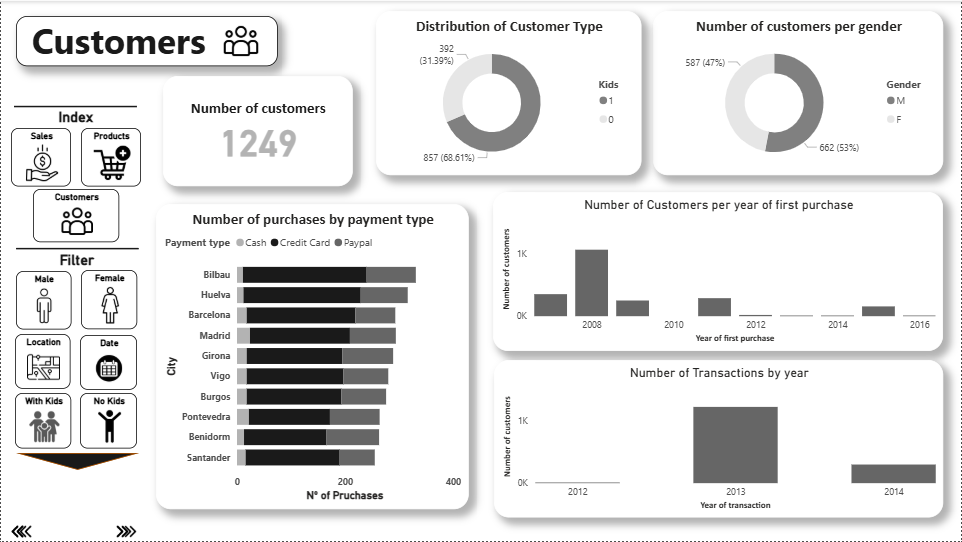

What the dashboard file says about the page in this screenshot:
{"tool":"powerbi","page":{"name":"Customers","canvas":[1280,720],"ordinal":2},"visuals":[{"type":"image","box":[140.5,688.9,43.2,31.1],"z":7000},{"type":"image","box":[0,688.9,44.2,31.1],"z":8000},{"type":"textbox","title":"Customers","box":[20.2,20.2,348.6,67.4],"z":10000},{"type":"image","box":[284.6,25.3,72.4,55.6],"z":11000},{"type":"cardVisual","fields":{"Data":["Count(temp1671068008898978552.cust_id)"]},"box":[215.6,99.4,252.6,146.5],"z":12000},{"type":"barChart","title":"Number of purchases by payment type","fields":{"Category":["temp1671068008898978552.city"],"Y":["Count(temp1671068008898978552.transaction_id)"],"Series":["temp1671068008898978552.Payment_type"]},"box":[207.1,270,417.1,407.1],"z":13000},{"type":"columnChart","title":"Number of Customers per year of first purchase","fields":{"Y":["Count(temp1671068008898978552.cust_id)"],"Category":["temp1671068008898978552.Customer_since"]},"box":[655.4,254.2,600.4,211.6],"z":14000},{"type":"donutChart","title":"Number of customers per gender","fields":{"Y":["Count(temp1671068008898978552.cust_id)"],"Category":["temp1671068008898978552.Gender"]},"box":[869.1,13.5,387.4,218.9],"z":15000},{"type":"donutChart","title":"Distribution of Customer Type","fields":{"Y":["Count(temp1671068008898978552.cust_id)"],"Category":["temp1671068008898978552.Kids"]},"box":[500.2,13.5,353.7,218.9],"z":16000},{"type":"columnChart","title":"Number of Transactions by year","fields":{"Y":["Count(temp1671068008898978552.cust_id)"],"Category":["temp1671068008898978552.tran_date.Variation.Jerarquía de fechas.Año"]},"box":[656.8,478.1,599.1,210.2],"z":25000},{"type":"image","box":[140.5,688.9,43.2,31.1],"z":25001},{"type":"image","box":[0,688.9,44.2,31.1],"z":25002},{"type":"image","box":[150.5,688.9,43.2,31.1],"z":25003},{"type":"image","box":[10,688.9,44.2,31.1],"z":25004},{"type":"textbox","box":[56.4,138.8,87.7,33.5],"z":25005},{"type":"shape","box":[17.9,133.9,163.9,14.8],"z":25006},{"type":"image","title":"Sales","box":[13.8,168.8,80.3,78.1],"z":25007},{"type":"textbox","box":[57.7,329.4,87.7,33.8],"z":25008},{"type":"image","title":"Products","box":[106.4,168.8,80,78.1],"z":25009},{"type":"image","title":"Customers","box":[42.5,251.1,115.2,71.3],"z":25010},{"type":"shape","box":[19.6,322,163.8,15],"z":25011},{"type":"shape","box":[19.6,603,164.4,22.5],"z":25012},{"type":"image","title":"Date","box":[105.9,444.9,76.2,72.5],"z":25013},{"type":"image","title":"Location","box":[18.5,443.7,74.4,72.8],"z":25014},{"type":"image","title":"With Kids","box":[18.7,522.3,75.5,73.6],"z":25015},{"type":"image","title":"No Kids","box":[105.1,522.3,76.4,73.6],"z":25016},{"type":"image","title":"Female","box":[107.1,358.7,75,78.8],"z":25017},{"type":"image","title":"Male","box":[19.6,359.6,73.6,78.2],"z":25018}]}

Visuals, with their boxes in screenshot pixels (x1, y1, x2, y2), scaled from the page's 1280x720 canvas onto the 962x542 screenshot:
image: bbox=(106, 519, 138, 541)
image: bbox=(0, 519, 33, 541)
"Customers" textbox: bbox=(15, 15, 277, 66)
image: bbox=(214, 19, 268, 61)
cardVisual - Count(temp1671068008898978552.cust_id): bbox=(162, 75, 352, 185)
"Number of purchases by payment type" barChart: bbox=(156, 203, 469, 510)
"Number of Customers per year of first purchase" columnChart: bbox=(493, 191, 944, 351)
"Number of customers per gender" donutChart: bbox=(653, 10, 944, 175)
"Distribution of Customer Type" donutChart: bbox=(376, 10, 642, 175)
"Number of Transactions by year" columnChart: bbox=(494, 360, 944, 518)
image: bbox=(106, 519, 138, 541)
image: bbox=(0, 519, 33, 541)
image: bbox=(113, 519, 146, 541)
image: bbox=(8, 519, 41, 541)
textbox: bbox=(42, 104, 108, 130)
shape: bbox=(13, 101, 137, 112)
"Sales" image: bbox=(10, 127, 71, 186)
textbox: bbox=(43, 248, 109, 273)
"Products" image: bbox=(80, 127, 140, 186)
"Customers" image: bbox=(32, 189, 119, 243)
shape: bbox=(15, 242, 138, 254)
shape: bbox=(15, 454, 138, 471)
"Date" image: bbox=(80, 335, 137, 389)
"Location" image: bbox=(14, 334, 70, 389)
"With Kids" image: bbox=(14, 393, 71, 449)
"No Kids" image: bbox=(79, 393, 136, 449)
"Female" image: bbox=(80, 270, 137, 329)
"Male" image: bbox=(15, 271, 70, 330)
